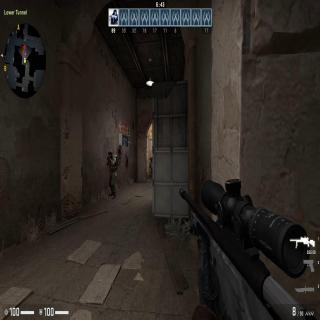CT-Body: (106, 149, 118, 192), (148, 154, 152, 180)
CT-Head: (108, 150, 112, 158), (150, 156, 152, 160)
